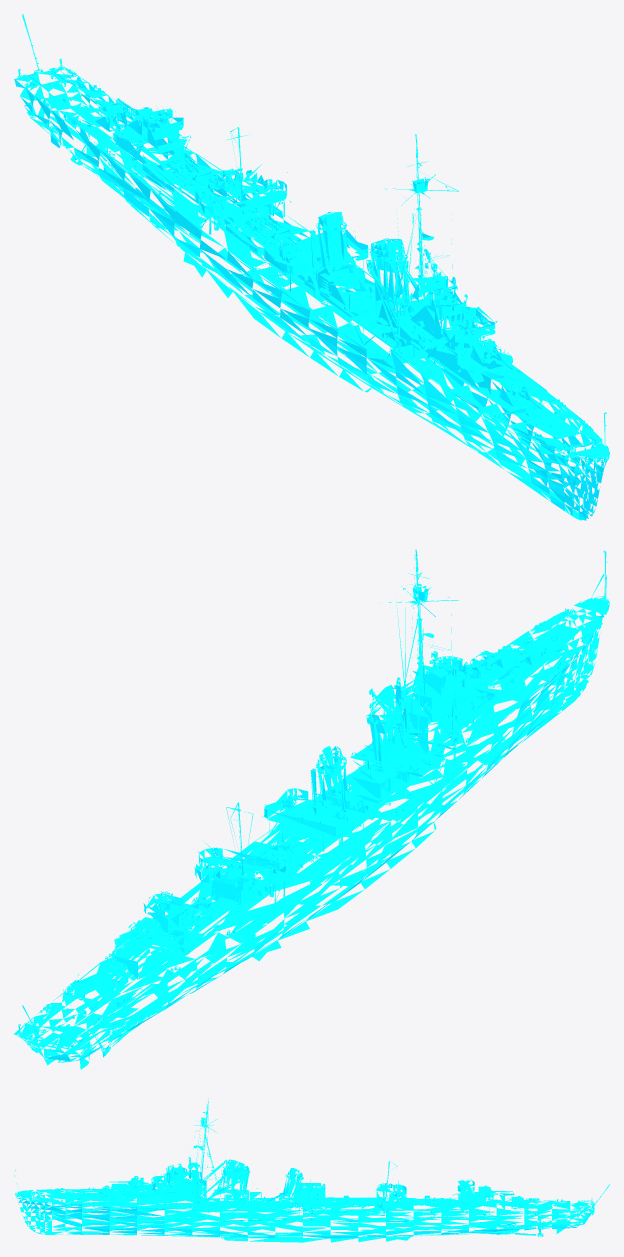
File: Karl_von_Schonberg.glb
3 views of the same model, one above another, from view 1: azimuth 30°, elevation 25°; view 2: azimuth 150°, elevation 25°; view 3: azimuth 270°, elevation 25° (orthographic). The views are drawn at different scales.
Bounding box in the file's own units: 0.8253 × 2.22 × 8.81.
